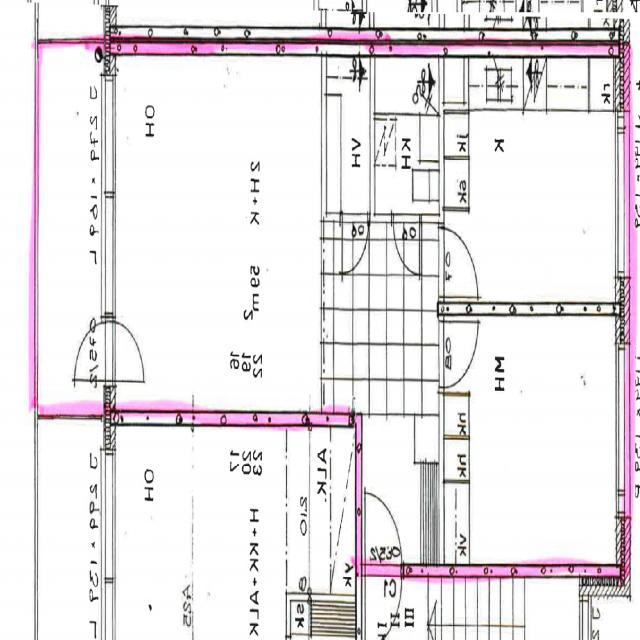door: (365, 492, 402, 577), (365, 564, 402, 640), (439, 320, 479, 388), (439, 228, 479, 296), (103, 321, 147, 381), (73, 321, 116, 381), (393, 212, 420, 274), (342, 212, 368, 272)
